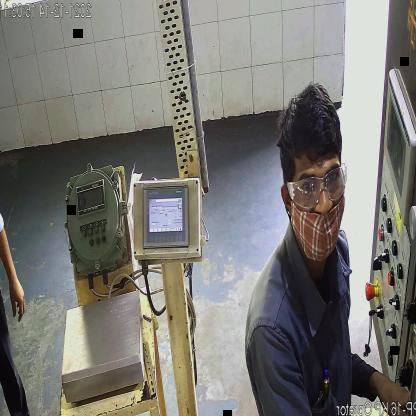goggles: (288, 162, 346, 208)
